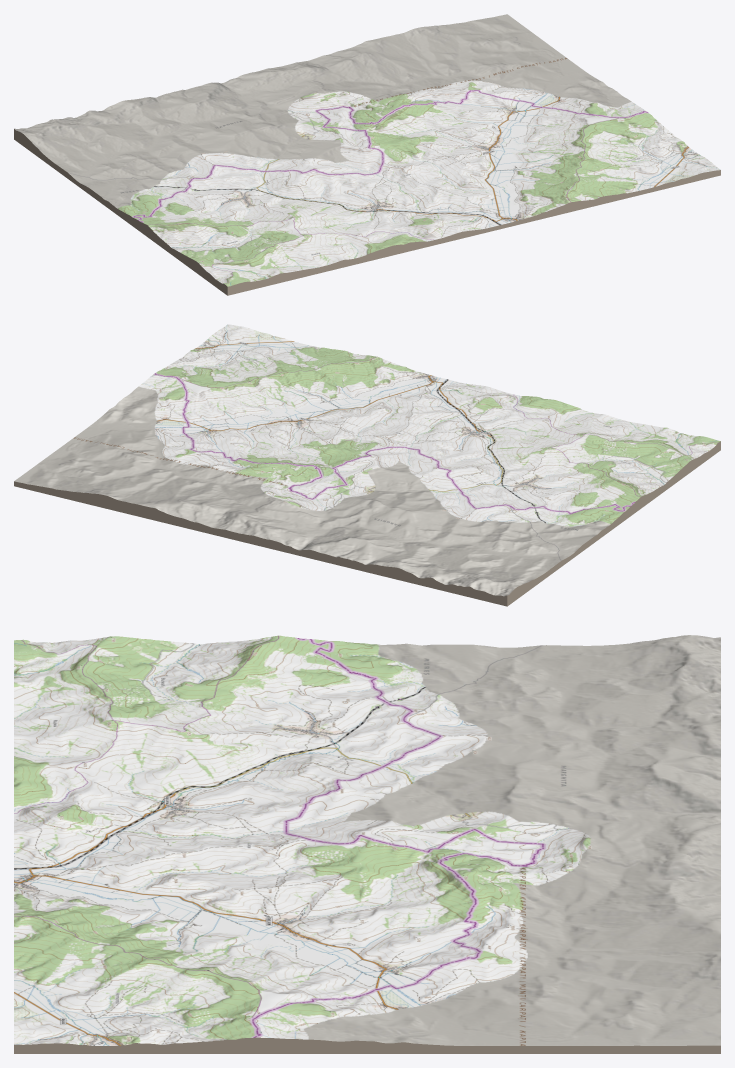
The picture shows the model from 3 angles, top to bottom: view 1: azimuth 30°, elevation 25°; view 2: azimuth 150°, elevation 25°; view 3: azimuth 270°, elevation 25°; orthographic projection. The views are drawn at different scales.
Parts seen in each view (by area): view 1: BV50-A3 Cața; view 2: BV50-A3 Cața; view 3: BV50-A3 Cața.
Boxes of the visible parts, x1=… form: BV50-A3 Cața: x1=14, y1=14, x2=720, y2=295; BV50-A3 Cața: x1=14, y1=324, x2=720, y2=606; BV50-A3 Cața: x1=14, y1=635, x2=720, y2=1053.
Size of the model in its own units: 20000 by 524 by 15000.
Materials: 5 (1 with a texture image).
